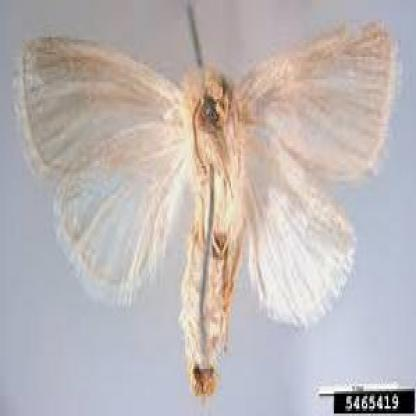stem-borer: (12, 19, 398, 380)
